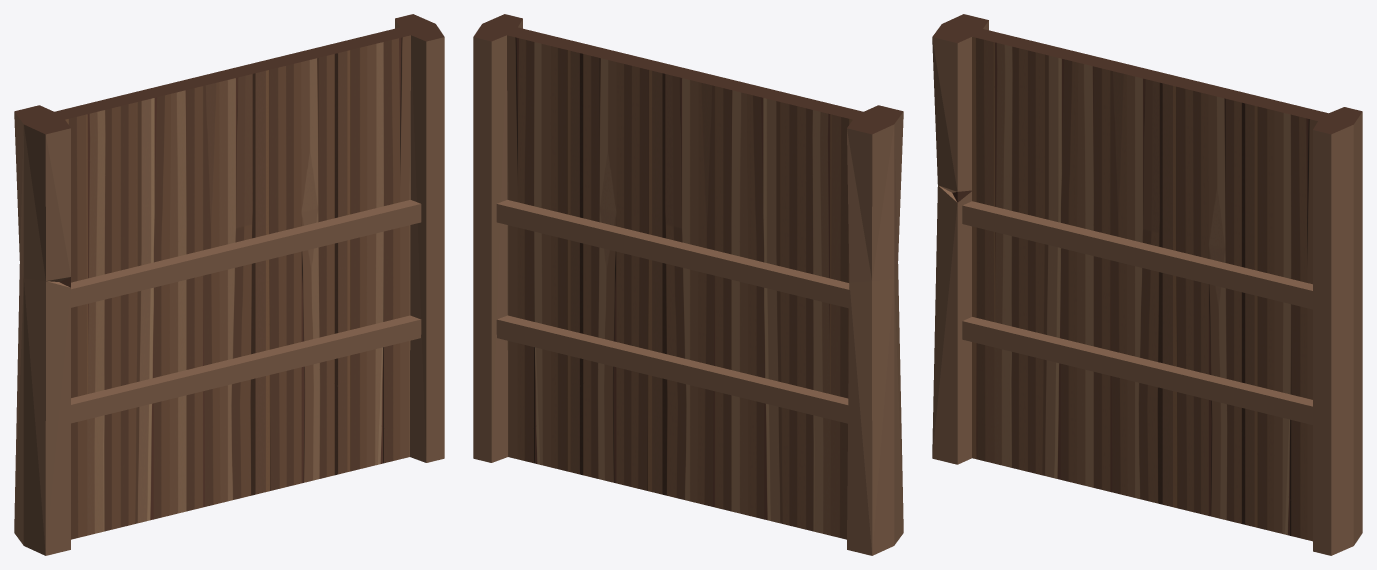
The model's file is BuildingWall_9_2  Asia.fbx.
3 views of the same model, side by side, from view 1: azimuth 30°, elevation 25°; view 2: azimuth 150°, elevation 25°; view 3: azimuth 330°, elevation 25° (orthographic).
Parts seen in each view (by area): view 1: BuildingWall_9_2; view 2: BuildingWall_9_2; view 3: BuildingWall_9_2.
Part boxes in pixels (bbox=[...]): BuildingWall_9_2: bbox=[14, 14, 444, 555]; BuildingWall_9_2: bbox=[473, 14, 903, 555]; BuildingWall_9_2: bbox=[932, 14, 1362, 555].
Bounding box in the file's own units: 2 × 1.96 × 0.2654.
